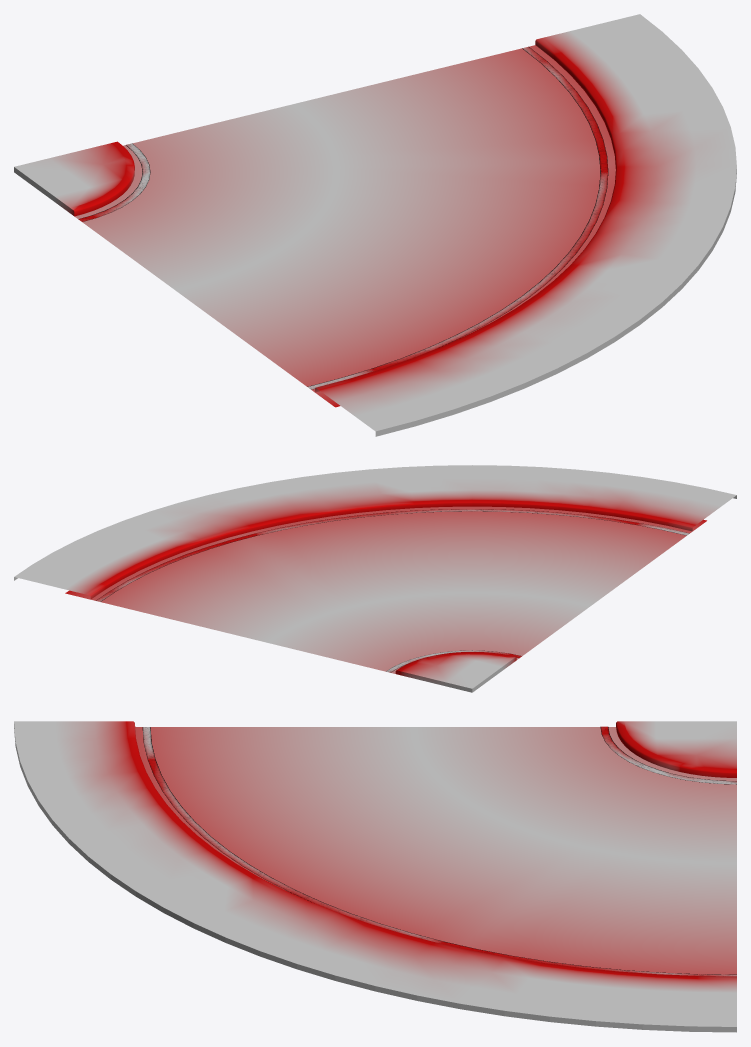
File: Street_Curve_4LaneShort.gltf
The picture shows the model from 3 angles, top to bottom: view 1: azimuth 30°, elevation 25°; view 2: azimuth 150°, elevation 25°; view 3: azimuth 270°, elevation 25°; orthographic projection. The views are drawn at different scales.
Parts seen in each view (by area): view 1: Street_Curve_4LaneShort; view 2: Street_Curve_4LaneShort; view 3: Street_Curve_4LaneShort.
Part boxes in pixels (bbox=[...]): Street_Curve_4LaneShort: bbox=[14, 14, 736, 436]; Street_Curve_4LaneShort: bbox=[14, 465, 736, 692]; Street_Curve_4LaneShort: bbox=[14, 721, 736, 1032].
Size of what is drawn, in the model's own units: 18 by 0.15 by 18.
